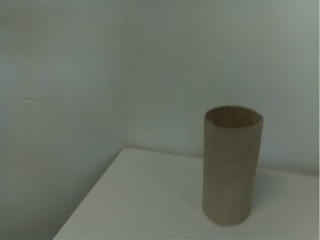rollo papel: (201, 105, 265, 228)
